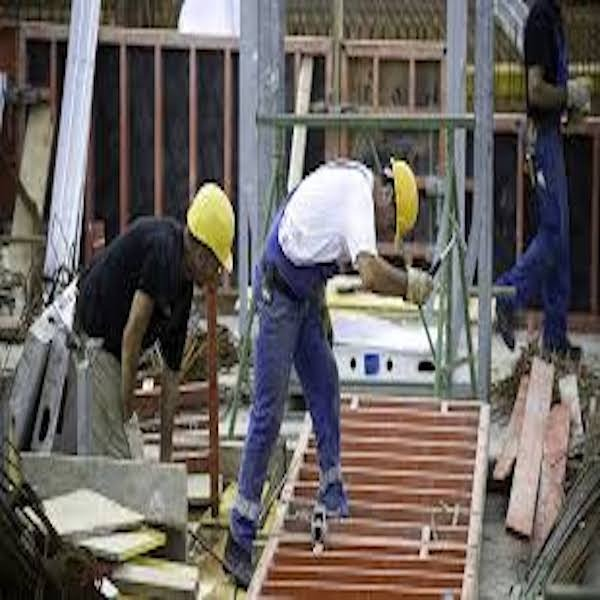helmet: (196, 181, 238, 273), (390, 159, 419, 244)
